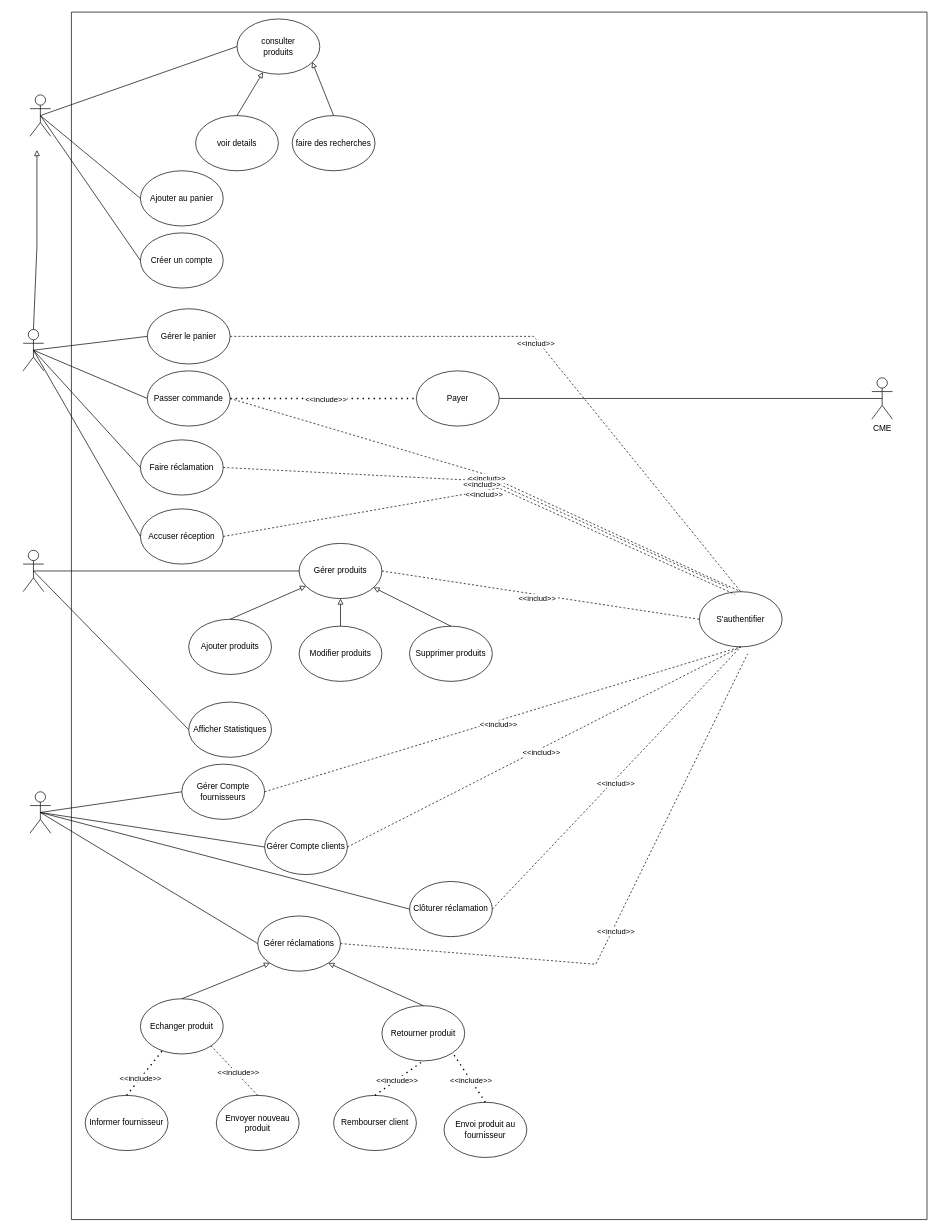
This 939x1232 diagram has some shape labels left out. Here are the shapes that lost their labels. From the top down, the centre of each, then its label:
At point (40, 115): "Internaute".
At point (33, 350): "Client".
At point (33, 571): "Fournisseur".
At point (40, 812): "Admin".
